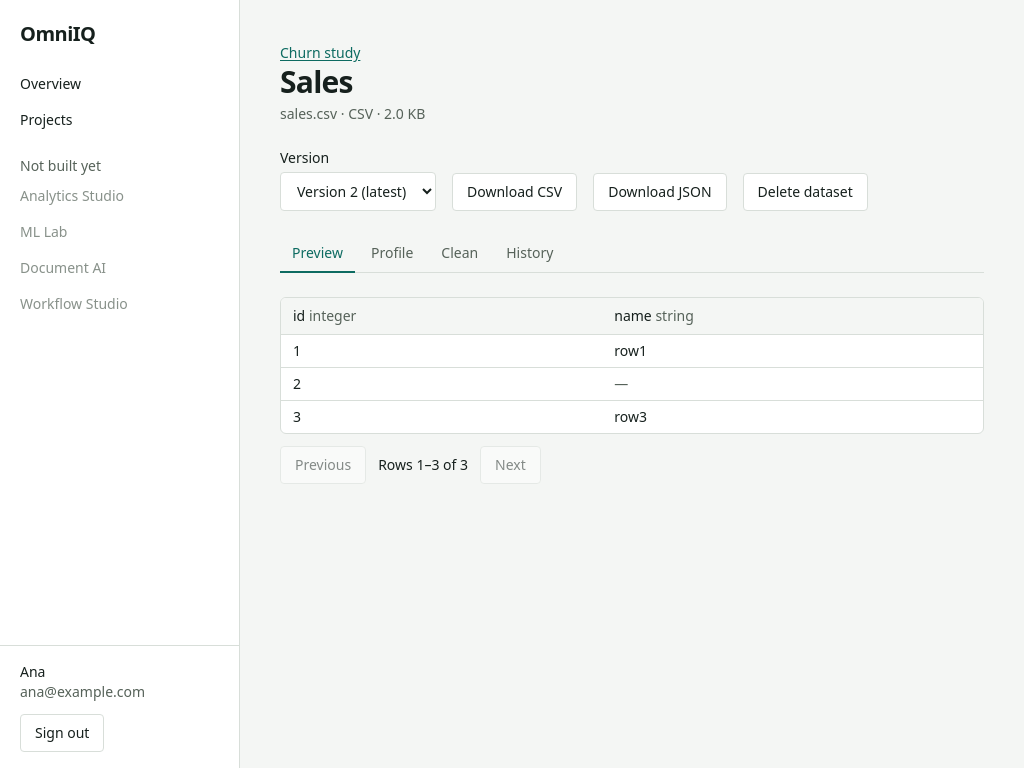
Preview, Profile, History › lists versions with the steps that produced them
Click the tab "History" at coordinates (530, 254), box [494, 235, 565, 273]
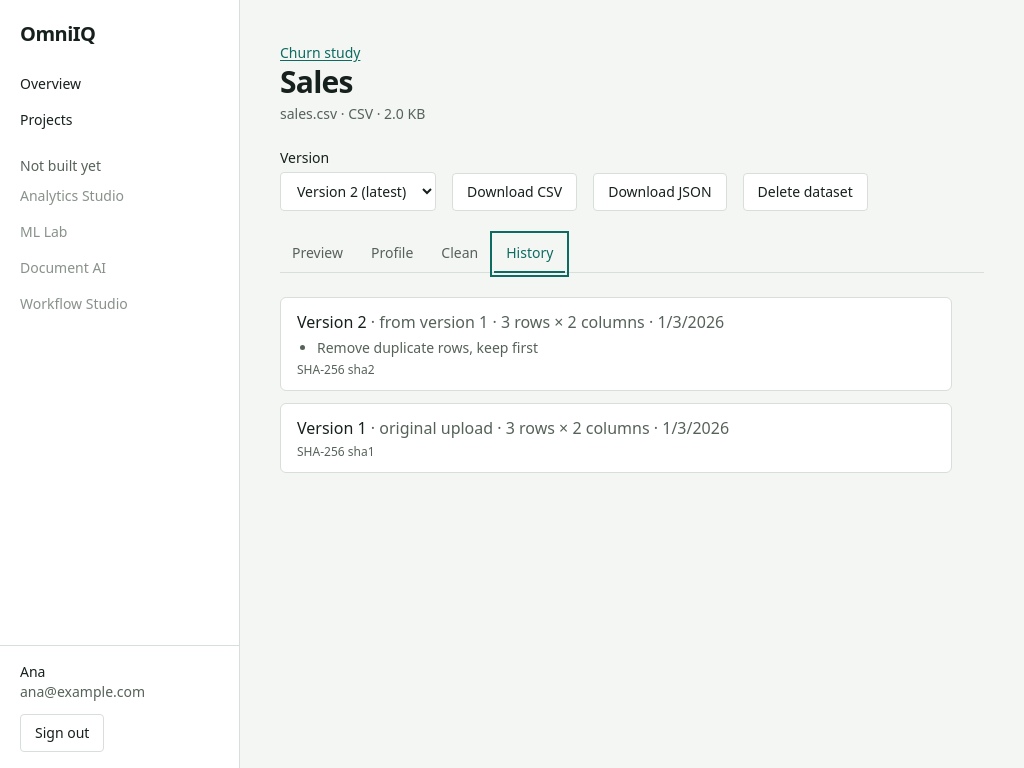
Now the text "· from version 1 · 3 rows × 2 columns · 1/3/2026" is shown, box [371, 311, 724, 333]
Now the list item "Remove duplicate rows, keep first" is shown, box [317, 338, 538, 357]
Now the text "· original upload · 3 rows × 2 columns · 1/3/2026" is shown, box [371, 417, 729, 439]
